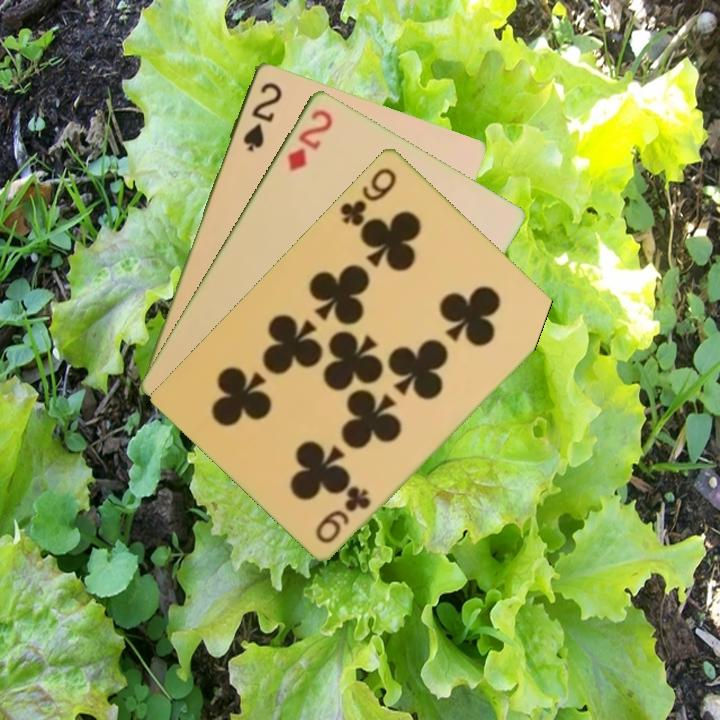2d: (284, 105, 336, 174)
2s: (239, 78, 285, 154)
9c: (336, 163, 399, 229), (312, 482, 374, 546)
